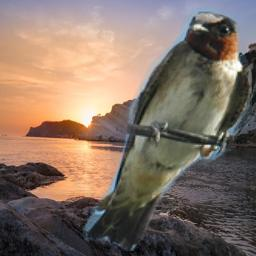Swallow: (81, 7, 252, 251)
